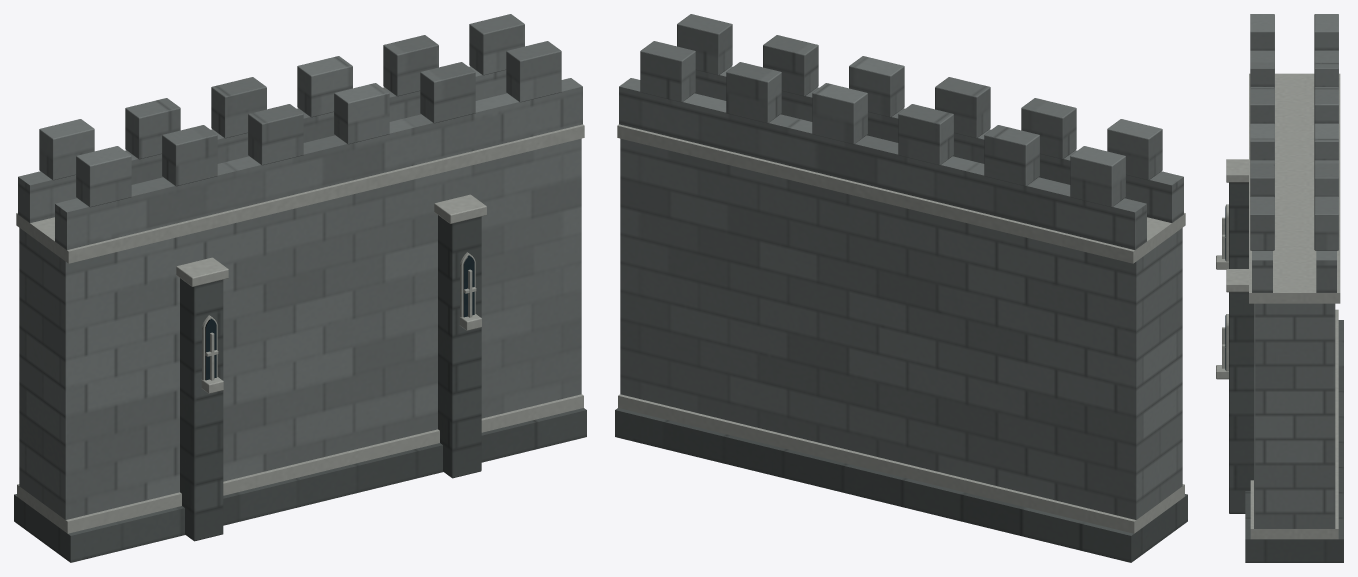
The model's file is Granite_Straight.fbx.
The picture shows the model from 3 angles, left to right: view 1: azimuth 30°, elevation 25°; view 2: azimuth 150°, elevation 25°; view 3: azimuth 270°, elevation 25°; orthographic projection. The views are drawn at different scales.
Visible parts, largest first — view 1: Granite_Straight.001; view 2: Granite_Straight.001; view 3: Granite_Straight.001.
Boxes of the visible parts, x1,y1,x2,y2 form: Granite_Straight.001: (14,14,586,562); Granite_Straight.001: (615,14,1187,562); Granite_Straight.001: (1216,14,1343,562).
Bounding box in the file's own units: 8 × 5.77 × 1.97.
